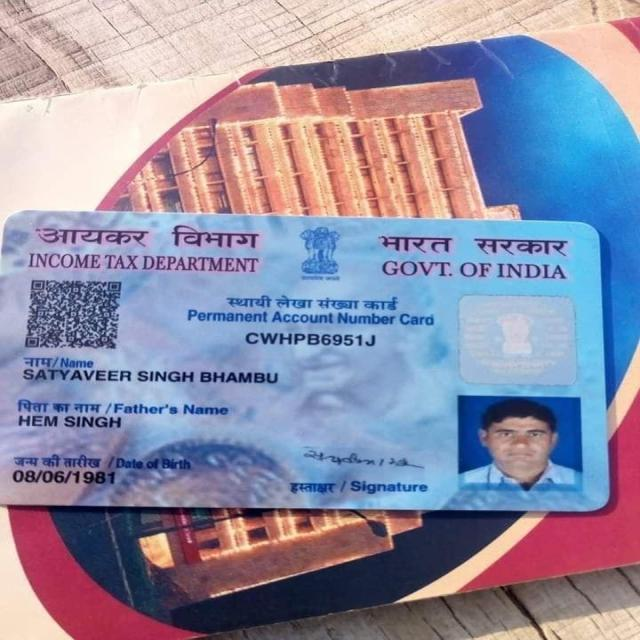pan_card: (0, 207, 610, 516)
